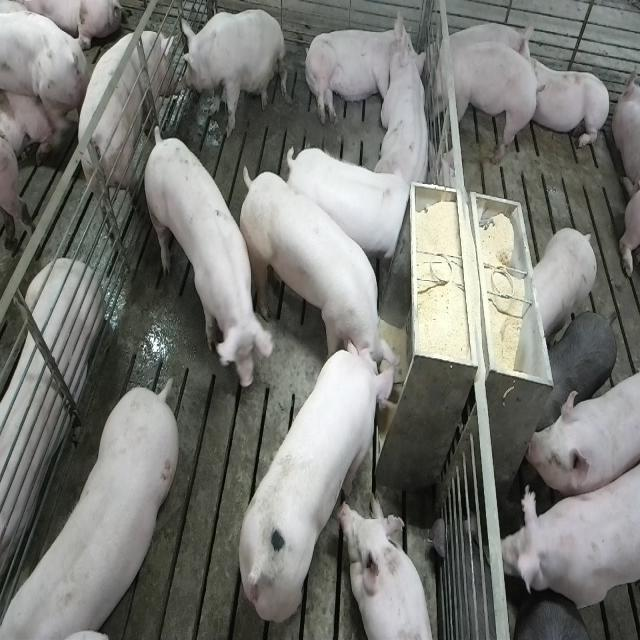Feeding: (236, 339, 400, 625), (232, 157, 400, 385)
Lateral_lying: (302, 10, 426, 127)
Sitting: (179, 8, 286, 139)
Standing: (0, 382, 176, 640), (144, 127, 274, 391), (499, 448, 638, 630), (78, 29, 179, 236), (282, 144, 412, 268), (524, 367, 637, 496), (430, 37, 540, 166), (536, 308, 619, 432), (530, 227, 598, 344), (509, 595, 602, 640)
Sternal_lying: (0, 261, 100, 590), (341, 494, 437, 640), (526, 46, 612, 152), (377, 40, 434, 192), (452, 20, 538, 72)
